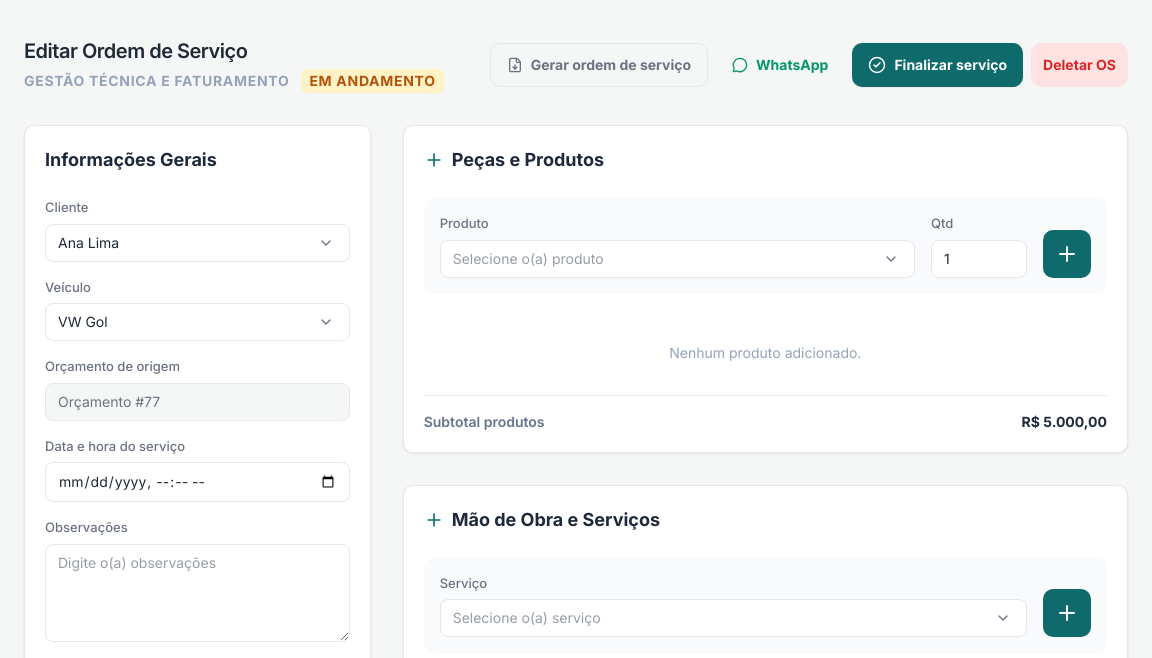
Test: <OrderEdit> — live-select de cliente/veículo › trocar o cliente realmente limpa o vehicle_id do form, não só o texto exibido
Expected: the text "Orçamento de origem" is shown, [45,358,180,374]
Click the dropdown below "Cliente".
click(197, 242)  # box [45,224,350,262]
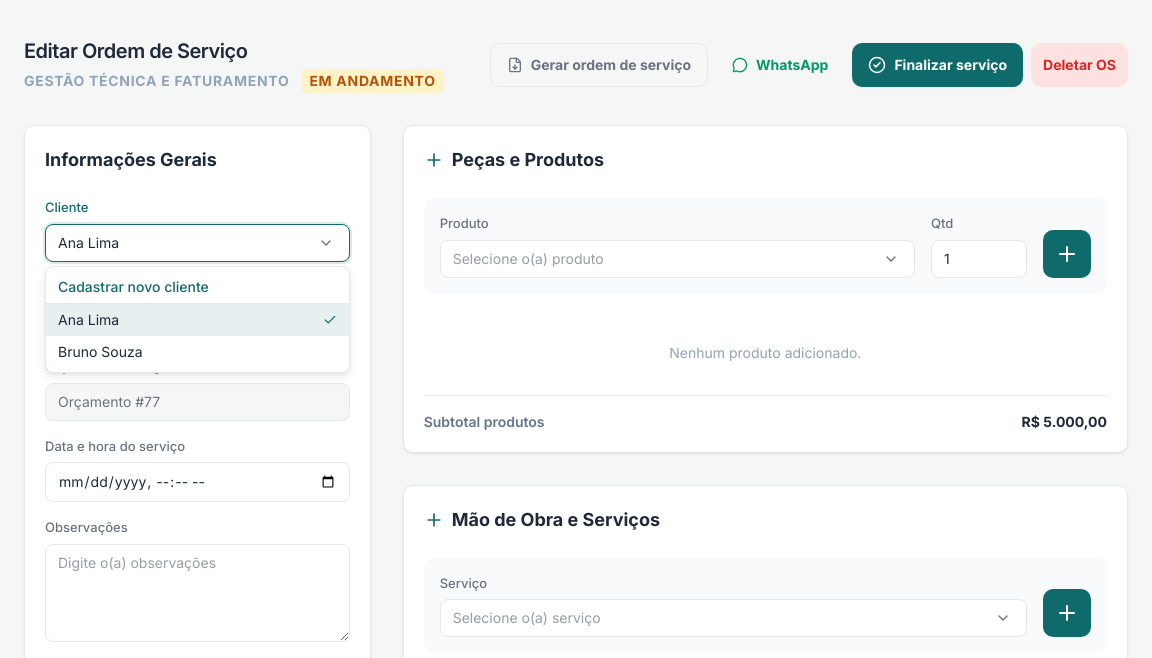
Click the option "Bruno Souza".
click(100, 352)  # box [58,343,143,360]
(page scrolled)
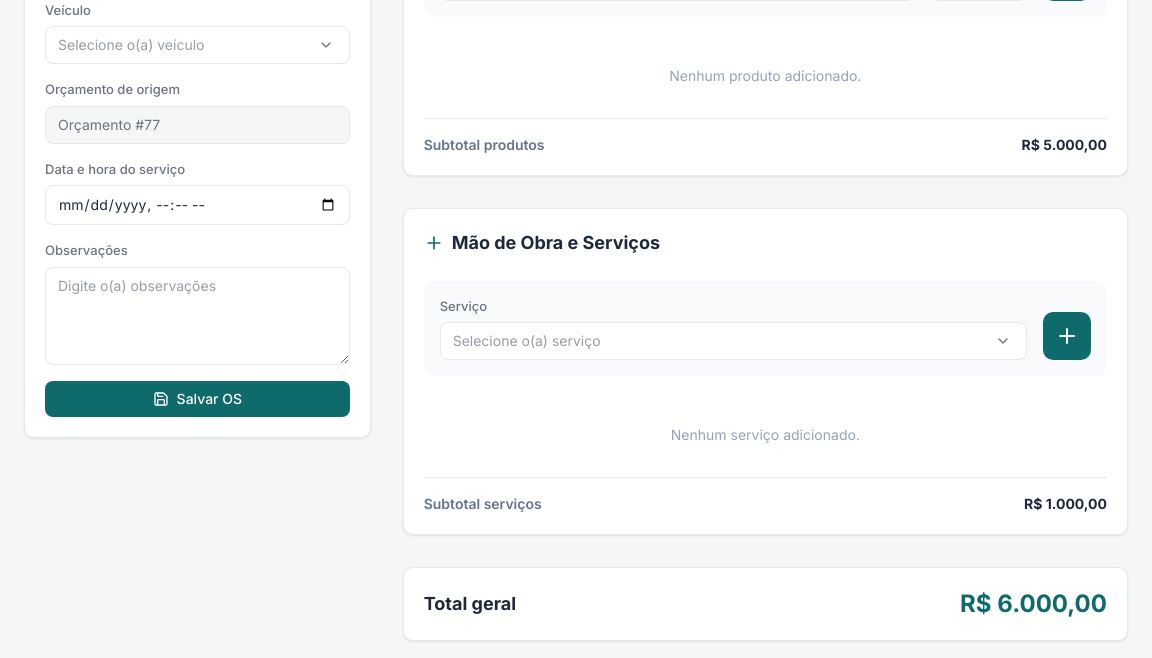
Click the button "Salvar OS".
click(197, 398)  # box [45,380,350,416]
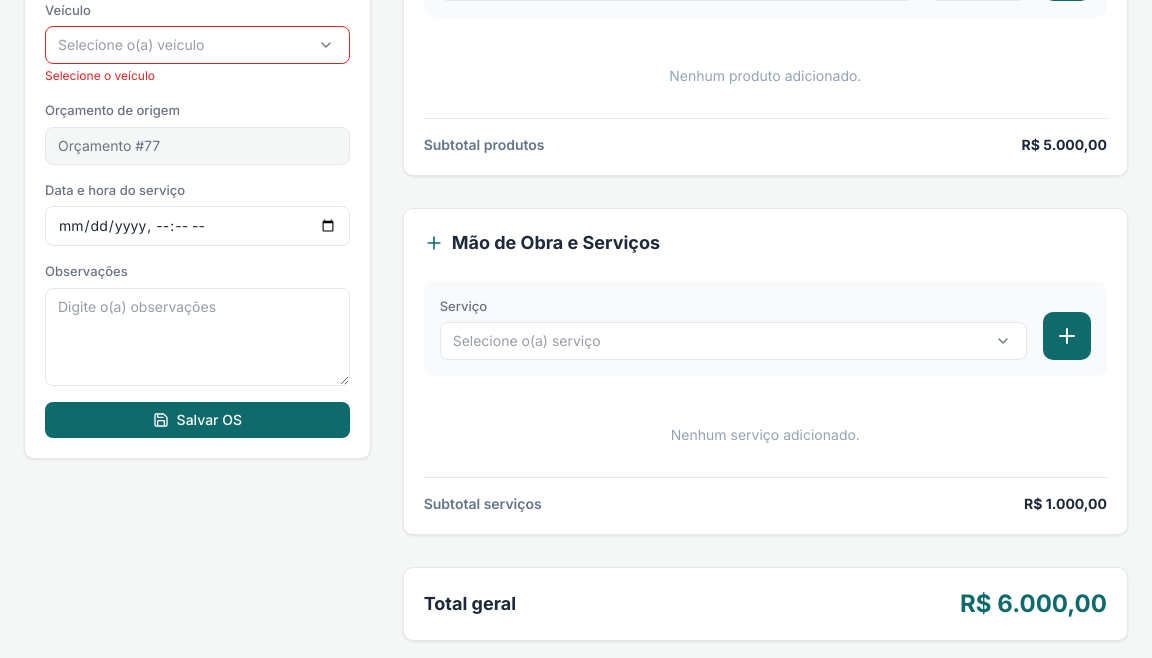
Now the text "Selecione o veículo" is shown, box [45,68,155,83]
